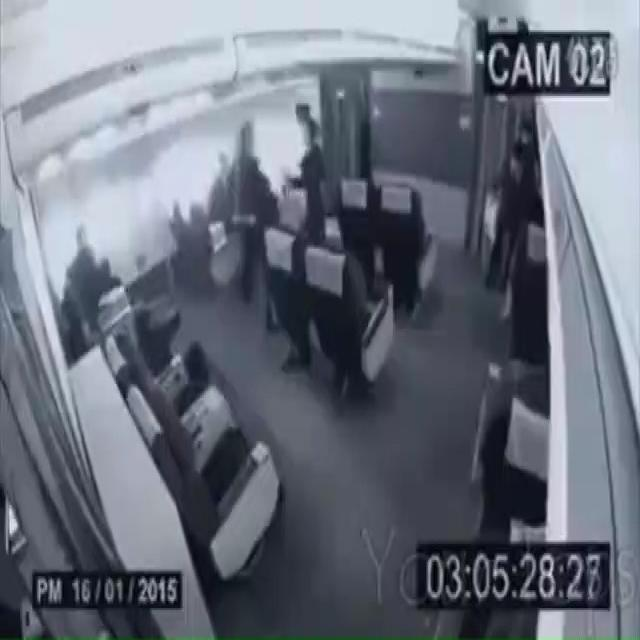fight: (223, 137, 328, 279)
